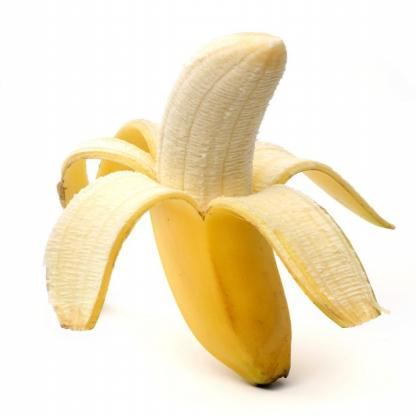banana: (164, 24, 297, 395)
